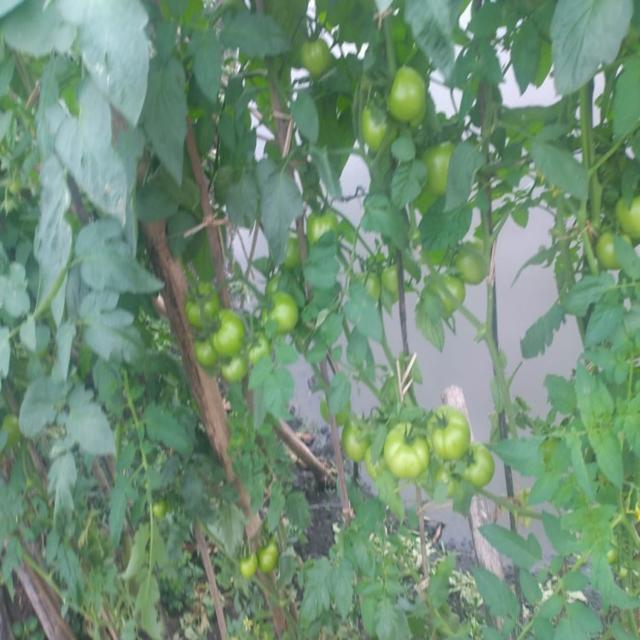tomato: (379, 423, 434, 479), (425, 404, 473, 465), (385, 67, 429, 119), (450, 239, 492, 287), (421, 141, 458, 191), (256, 290, 302, 330), (456, 443, 495, 485), (186, 289, 221, 334), (307, 208, 342, 244), (337, 427, 372, 462), (213, 313, 241, 356), (429, 270, 462, 306), (614, 198, 640, 241), (357, 106, 384, 144), (298, 33, 328, 66), (263, 539, 285, 577), (596, 233, 619, 268), (243, 326, 271, 353), (279, 240, 305, 267), (363, 270, 385, 301), (385, 258, 405, 287), (191, 336, 208, 363), (223, 361, 243, 379), (240, 555, 256, 573)
